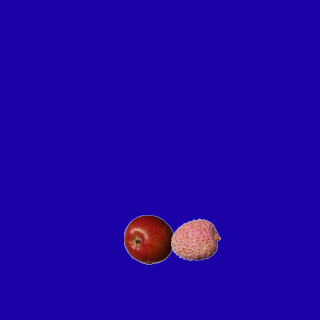Apple Braeburn: (123, 214, 173, 264)
Lychee: (170, 214, 220, 264)
